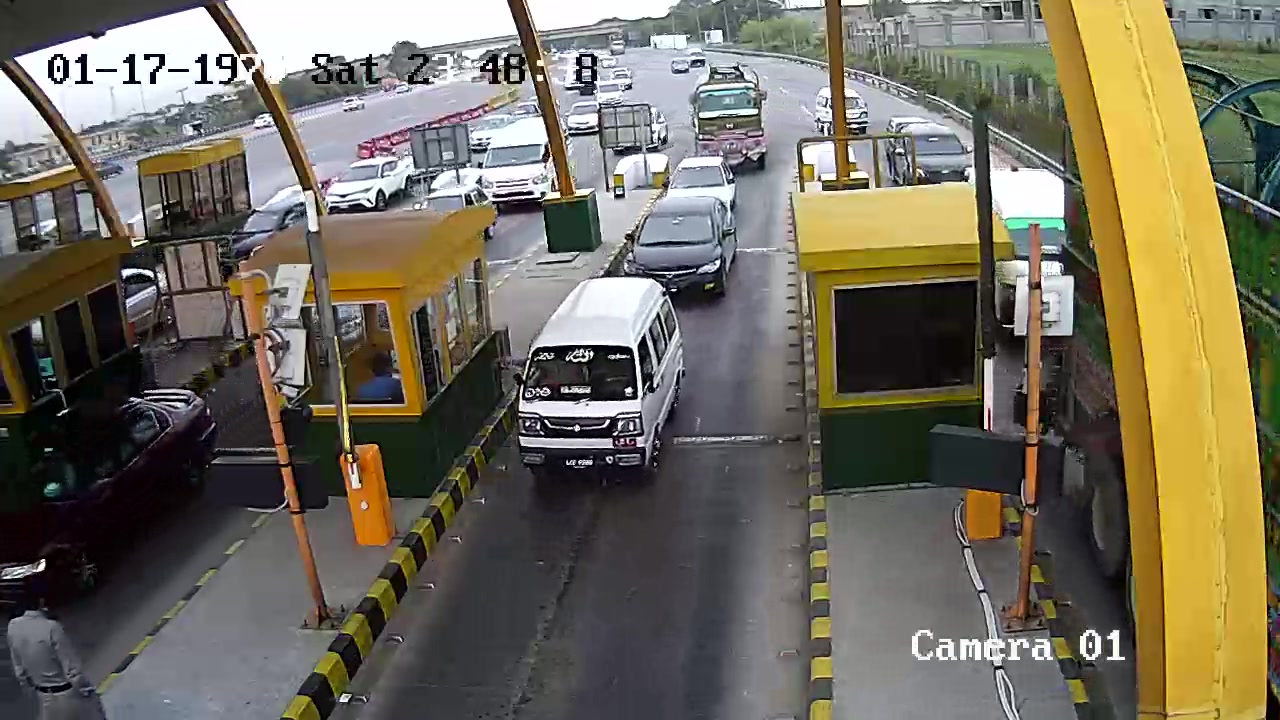F1: (513, 270, 697, 484)
